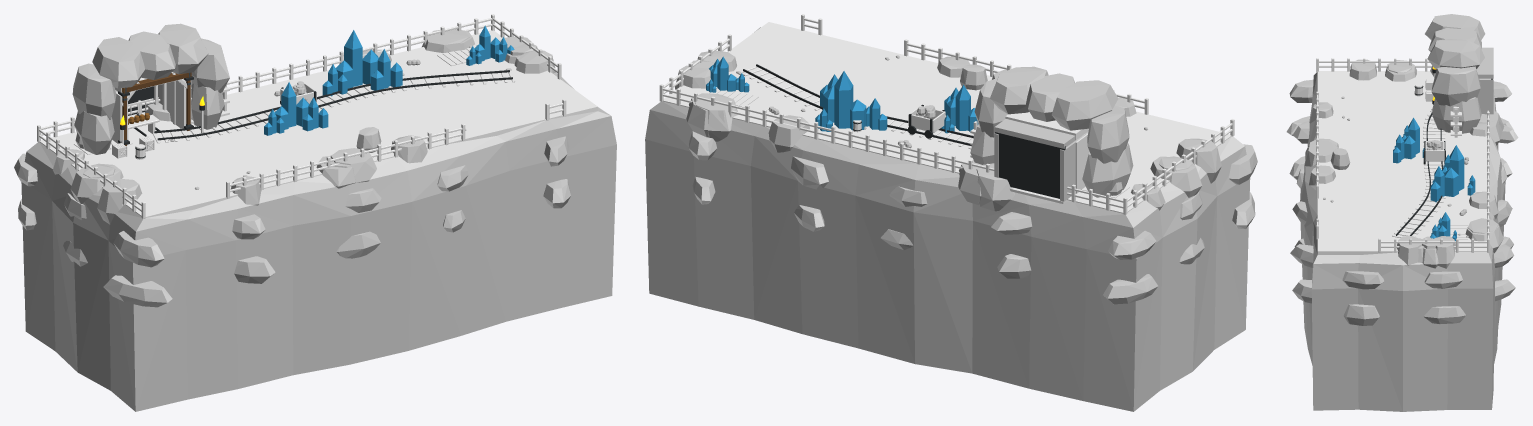
The model's file is crystal_workings.glb.
3 renders of one model, left to right at view 1: azimuth 30°, elevation 25°; view 2: azimuth 150°, elevation 25°; view 3: azimuth 270°, elevation 25°, orthographic. The views are drawn at different scales.
Visible parts, largest first — view 1: crystal_workings_Mine_Rock, crystal_workings_Mine_Earth, crystal_workings_Mine_Wood, crystal_workings_G04_crystal, crystal_workings_Mine_WoodLight, crystal_workings_Mine_Metal, crystal_workings_G04_wood.002; view 2: crystal_workings_Mine_Rock, crystal_workings_Mine_Earth, crystal_workings_Mine_Wood, crystal_workings_G04_crystal, crystal_workings_Mine_WoodLight, crystal_workings_Mine_Metal; view 3: crystal_workings_Mine_Rock, crystal_workings_Mine_Earth, crystal_workings_G04_crystal, crystal_workings_Mine_Wood, crystal_workings_Mine_WoodLight, crystal_workings_Mine_Metal, crystal_workings_Mine_Wood.001.
Boxes of the visible parts, bbox=[...] form: crystal_workings_Mine_Rock: bbox=[14, 23, 616, 411]; crystal_workings_Mine_Earth: bbox=[39, 30, 597, 217]; crystal_workings_Mine_Wood: bbox=[37, 14, 566, 218]; crystal_workings_G04_crystal: bbox=[264, 25, 514, 135]; crystal_workings_Mine_WoodLight: bbox=[39, 18, 563, 211]; crystal_workings_Mine_Metal: bbox=[118, 70, 512, 144]; crystal_workings_G04_wood.002: bbox=[122, 72, 191, 146]; crystal_workings_Mine_Rock: bbox=[645, 27, 1257, 411]; crystal_workings_Mine_Earth: bbox=[663, 22, 1231, 213]; crystal_workings_Mine_Wood: bbox=[659, 14, 1234, 214]; crystal_workings_G04_crystal: bbox=[706, 56, 978, 133]; crystal_workings_Mine_WoodLight: bbox=[662, 18, 1232, 208]; crystal_workings_Mine_Metal: bbox=[743, 64, 1065, 198]; crystal_workings_Mine_Rock: bbox=[1286, 14, 1518, 411]; crystal_workings_Mine_Earth: bbox=[1317, 71, 1486, 254]; crystal_workings_G04_crystal: bbox=[1393, 117, 1475, 241]; crystal_workings_Mine_Wood: bbox=[1316, 58, 1489, 252]; crystal_workings_Mine_WoodLight: bbox=[1316, 61, 1488, 247]; crystal_workings_Mine_Metal: bbox=[1396, 68, 1492, 235]; crystal_workings_Mine_Wood.001: bbox=[1426, 79, 1458, 131].
Size of the model in its own units: 44.41 by 23.66 by 21.76.
